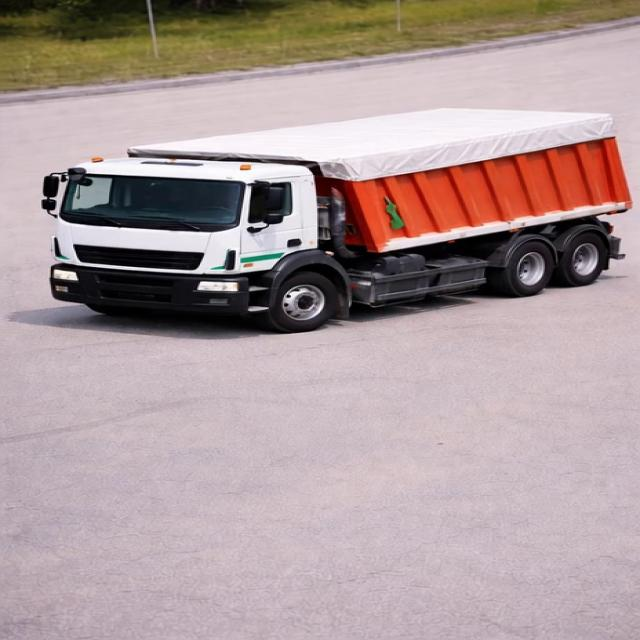Box: (122, 106, 607, 165)
Truck: (36, 99, 638, 325)
